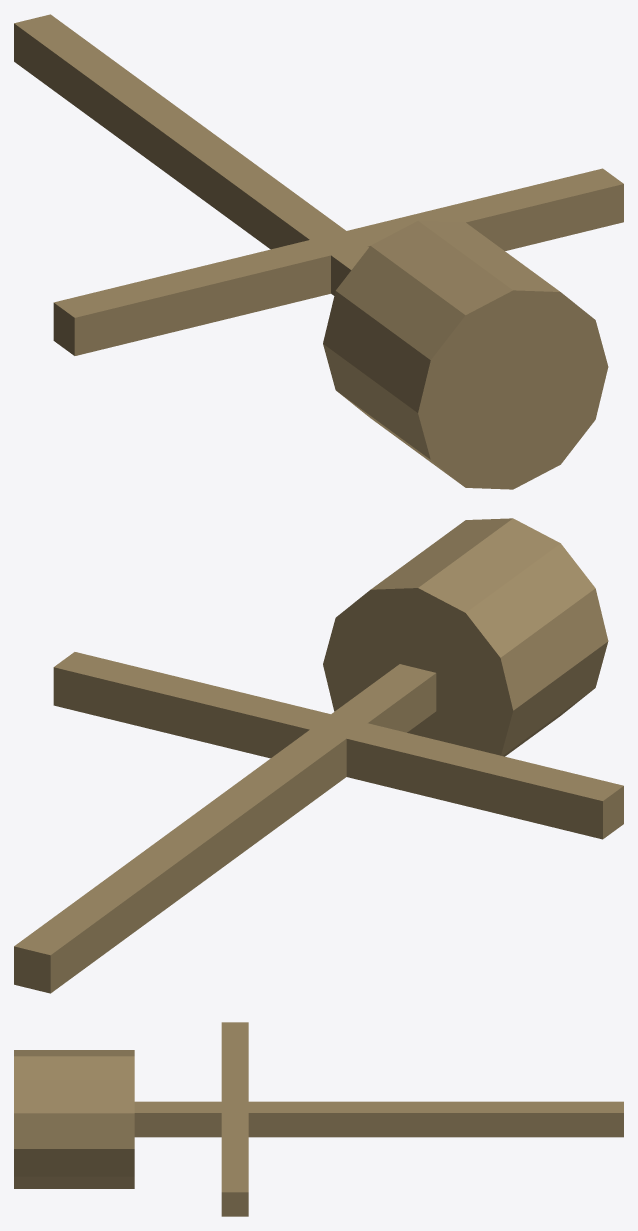
Rendered from SM_CommonScarecrow.obj.
The picture shows the model from 3 angles, top to bottom: view 1: azimuth 30°, elevation 25°; view 2: azimuth 150°, elevation 25°; view 3: azimuth 270°, elevation 25°; orthographic projection. The views are drawn at different scales.
Visible parts, largest first — view 1: SM_CommonScarecrow; view 2: SM_CommonScarecrow; view 3: SM_CommonScarecrow.
Boxes of the visible parts, x1,y1,x2,y2 form: SM_CommonScarecrow: (14, 14, 623, 489); SM_CommonScarecrow: (14, 518, 623, 993); SM_CommonScarecrow: (14, 1022, 623, 1216).
Size of the model in its own units: 150 by 52 by 228.
